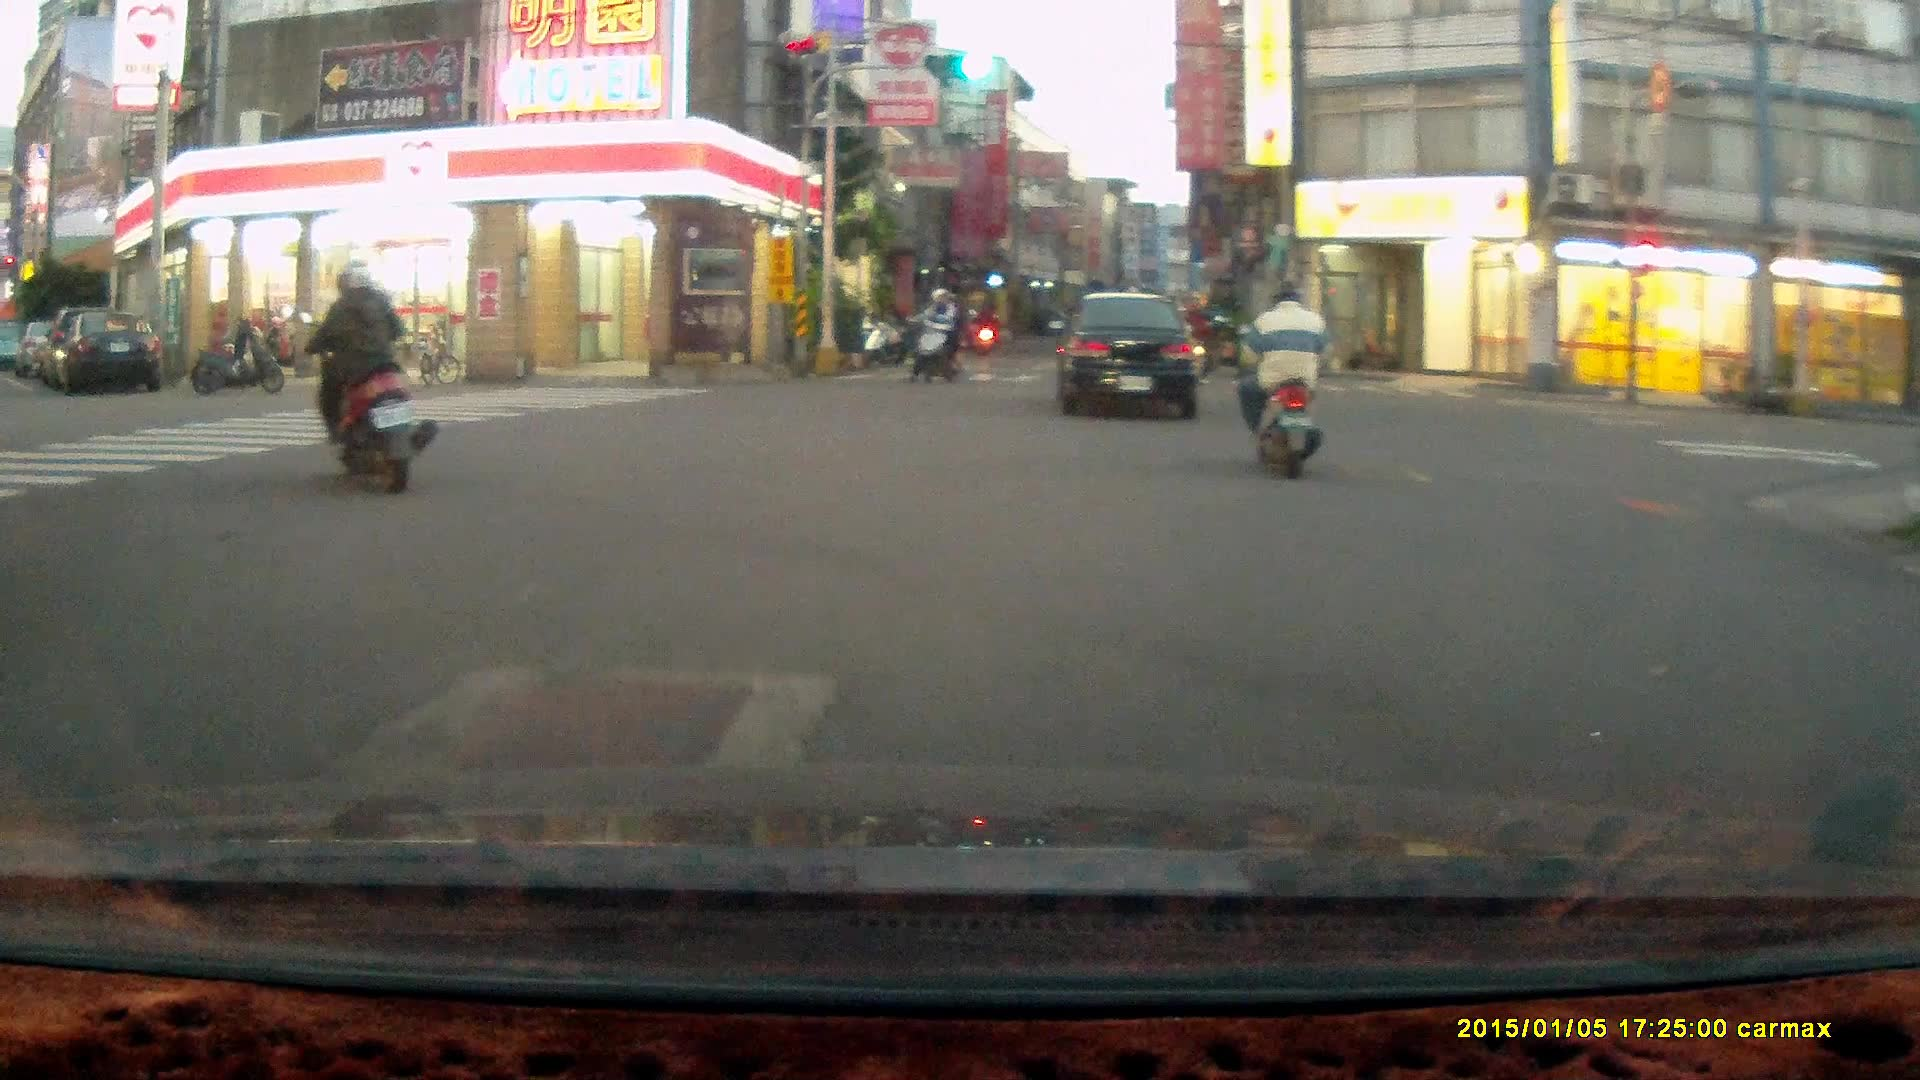rider: (295, 262, 439, 498), (1239, 279, 1329, 480), (905, 286, 963, 387), (1178, 293, 1214, 373)
vehicle: (1058, 290, 1205, 424), (67, 309, 170, 393)
